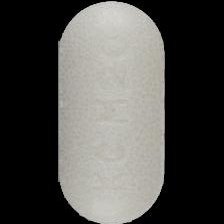0615-3599: (0, 0, 224, 224)
